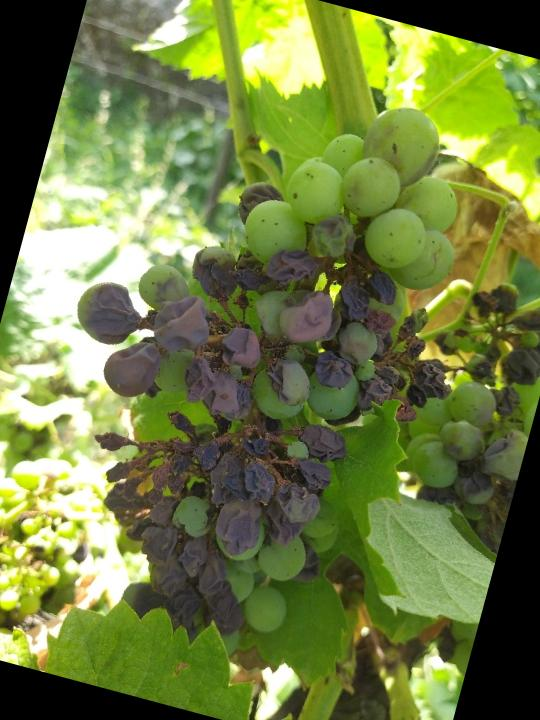grape: (0, 32, 524, 697)
